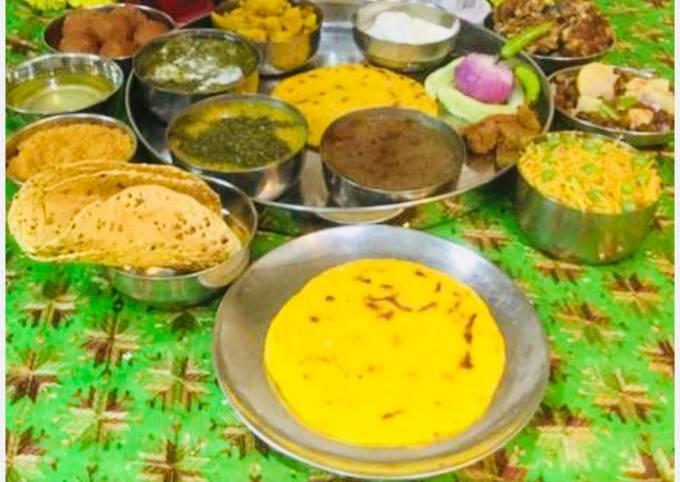saag: (140, 35, 253, 85)
